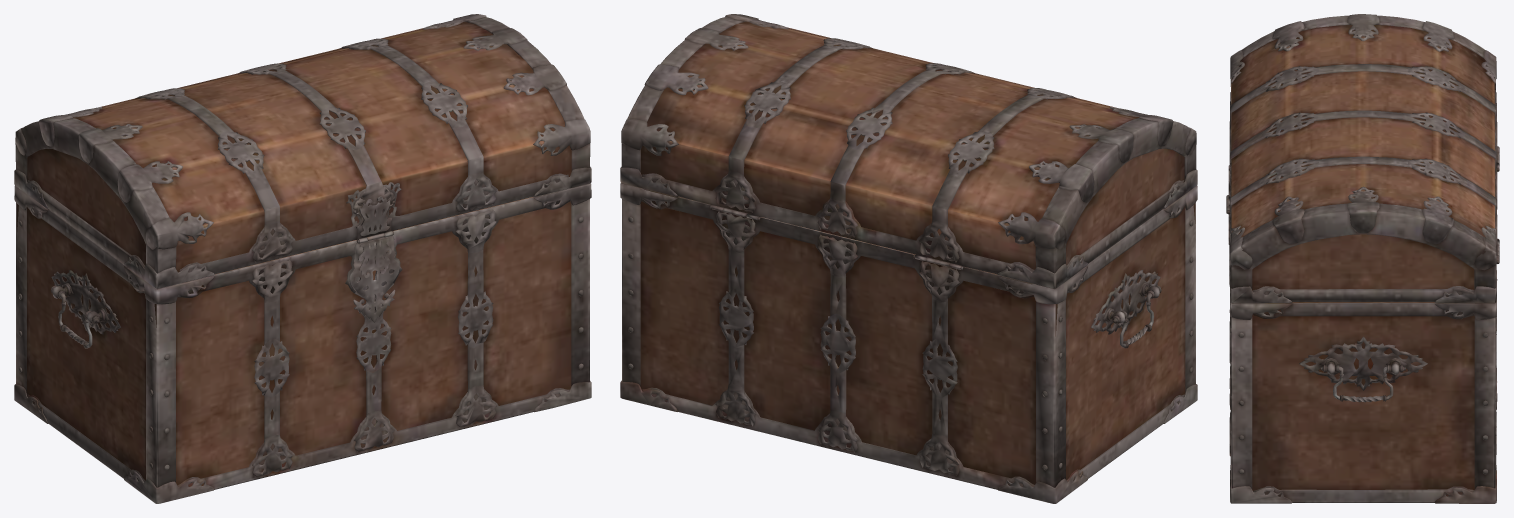
File: treasure_chest.glb
3 renders of one model, left to right at view 1: azimuth 30°, elevation 25°; view 2: azimuth 150°, elevation 25°; view 3: azimuth 270°, elevation 25°, orthographic. The views are drawn at different scales.
Visible parts, largest first — view 1: treasure_chest_bottom; view 2: treasure_chest_bottom; view 3: treasure_chest_bottom.
Part boxes in pixels (x1,y1,x2,y2): treasure_chest_bottom: [14, 14, 591, 503]; treasure_chest_bottom: [620, 14, 1197, 503]; treasure_chest_bottom: [1226, 14, 1499, 503].
Bounding box in the file's own units: 0.959 × 0.6188 × 0.5227.
1 material, 1 textured.
